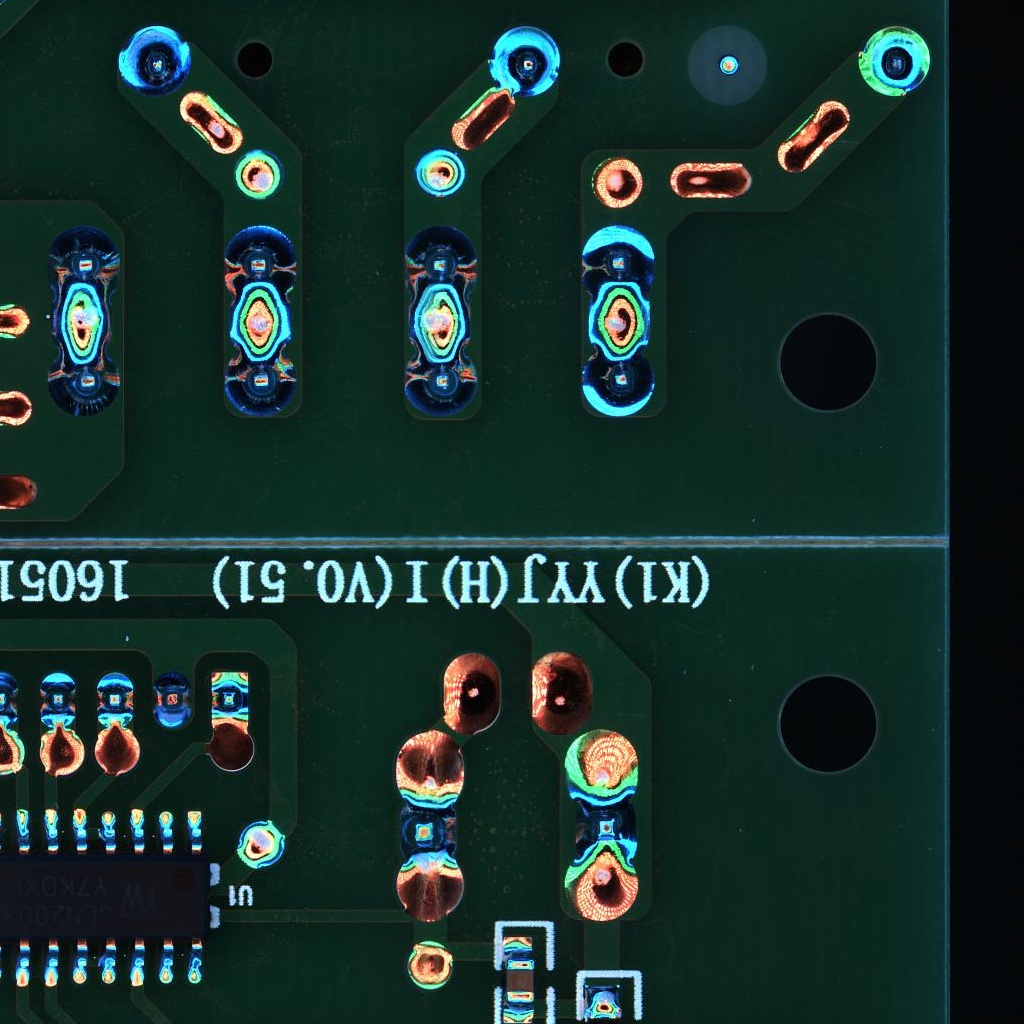spot: (215, 223, 301, 299), (387, 793, 466, 873), (575, 221, 658, 297), (564, 790, 642, 870), (485, 24, 566, 100), (114, 23, 193, 99), (579, 347, 662, 419), (855, 23, 932, 100), (400, 345, 480, 419), (401, 223, 480, 296), (220, 345, 301, 416), (43, 349, 123, 420), (45, 221, 122, 291), (234, 814, 289, 872), (207, 667, 251, 734), (93, 669, 138, 730), (151, 669, 193, 734), (36, 670, 80, 732), (232, 148, 282, 201), (414, 145, 465, 195), (1, 670, 21, 726)
